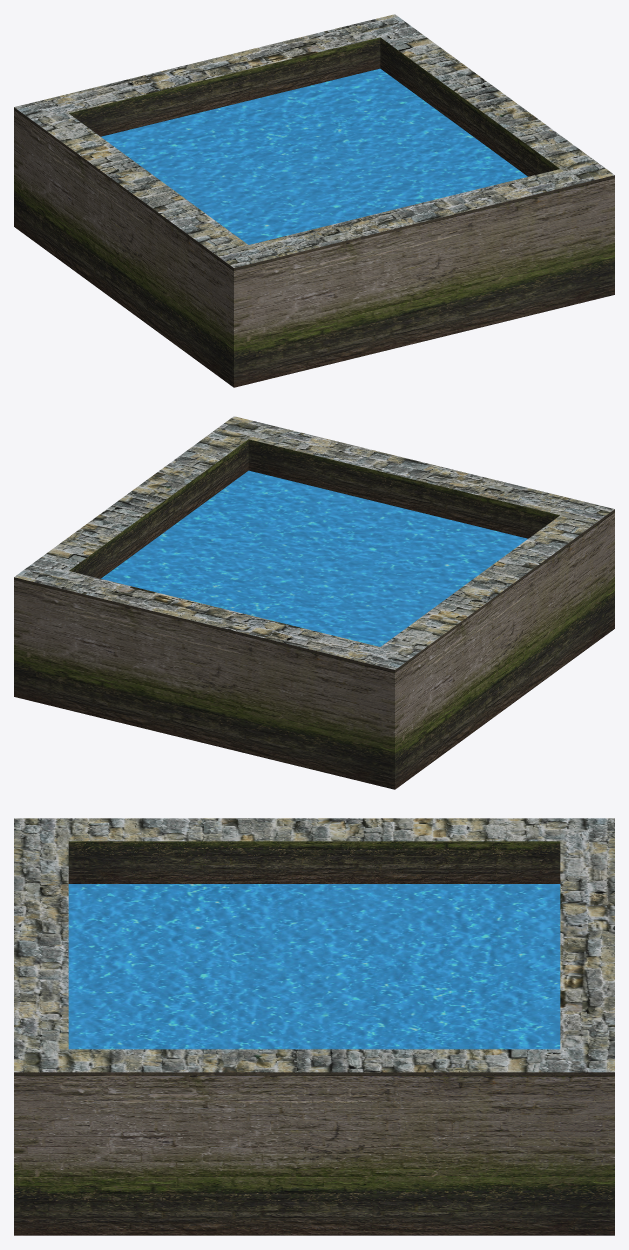
Rendered from Fonte.obj.
The picture shows the model from 3 angles, top to bottom: view 1: azimuth 30°, elevation 25°; view 2: azimuth 150°, elevation 25°; view 3: azimuth 270°, elevation 25°; orthographic projection. The views are drawn at different scales.
Parts seen in each view (by area): view 1: Box001; view 2: Box001; view 3: Box001.
Boxes of the visible parts, x1=… form: Box001: x1=14, y1=14, x2=614, y2=387; Box001: x1=14, y1=416, x2=614, y2=789; Box001: x1=14, y1=818, x2=614, y2=1235.
Bounding box in the file's own units: 10 × 3 × 10.
